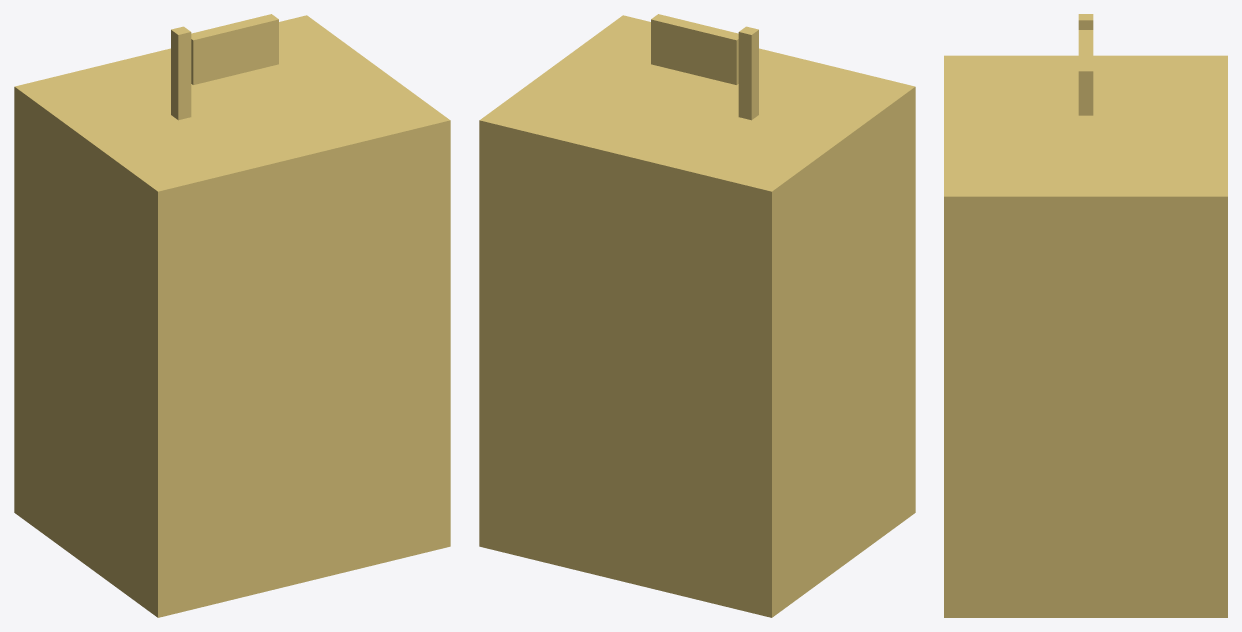
The model's file is school_main.glb.
3 renders of one model, left to right at view 1: azimuth 30°, elevation 25°; view 2: azimuth 150°, elevation 25°; view 3: azimuth 270°, elevation 25°, orthographic.
Visible parts, largest first — view 1: school_main; view 2: school_main; view 3: school_main.
Boxes of the visible parts, <box> form: school_main: <box>14,14,450,617</box>; school_main: <box>479,14,915,617</box>; school_main: <box>944,14,1227,617</box>.
Size of the model in its own units: 0.682 by 1.14 by 0.58.
